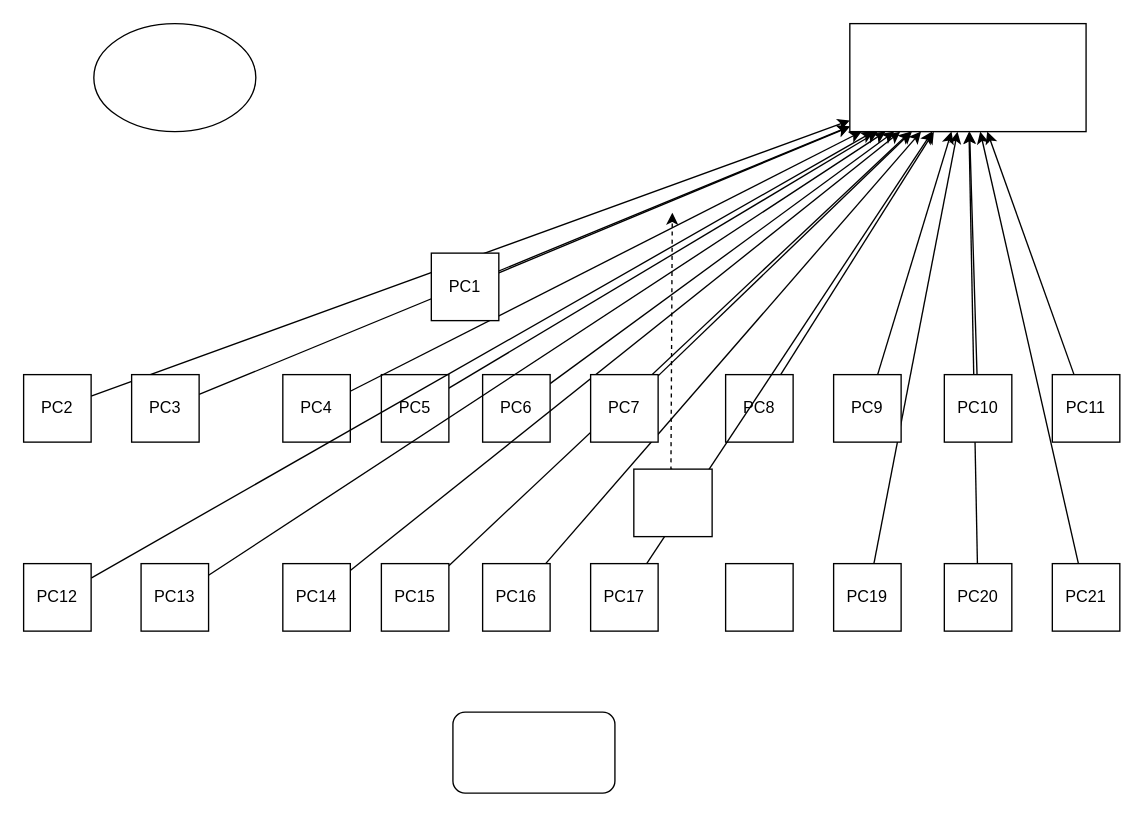
This 1143x817 diagram has some shape labels left out. The centre of each missing label's shape, as x and y in pixels:
Jelerősítő1: pixel 174 77
Légkondi: pixel 533 752
PC18: pixel 758 596
Projektor: pixel 672 502
SW1: pixel 967 77
